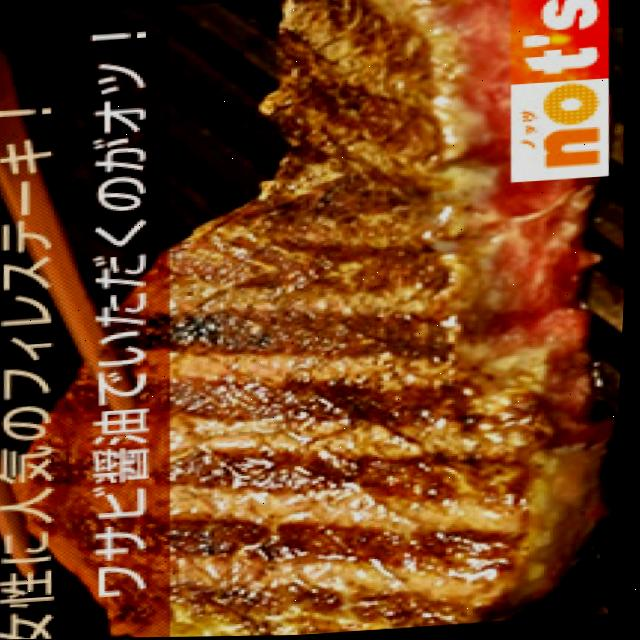牛肉菜式: (147, 0, 640, 638)
